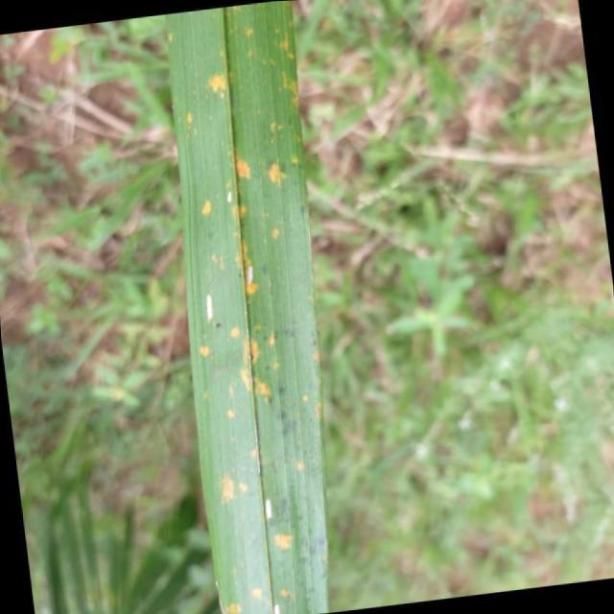Kalium: (163, 5, 336, 614)
